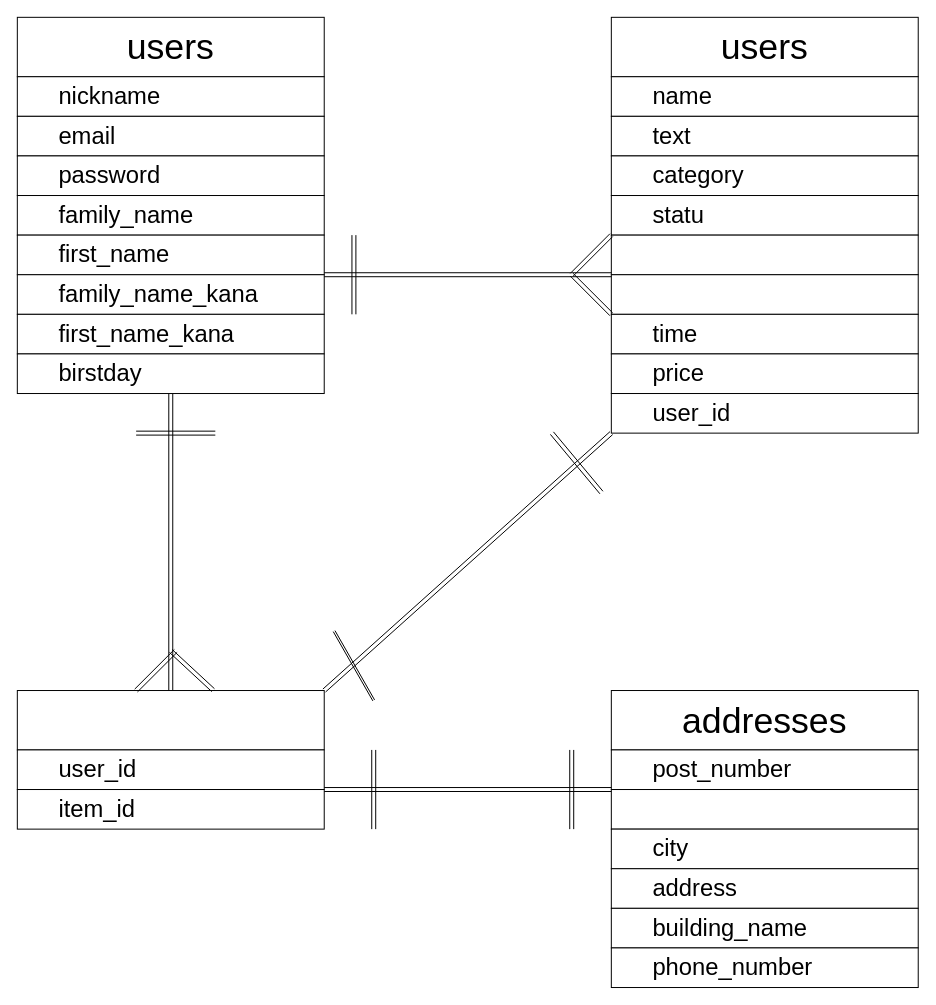
Some shapes in this 936 by 1005 pixel diagram are drawn without their labels. The shapes that lost their labels are listed below. From the top down, each one's box as (x1, y1, x2, y2) in pixels, then its label:
(610, 234, 918, 275): charge
(610, 274, 918, 314): area
(16, 690, 324, 750): orders
(610, 789, 918, 829): prefecture_id
